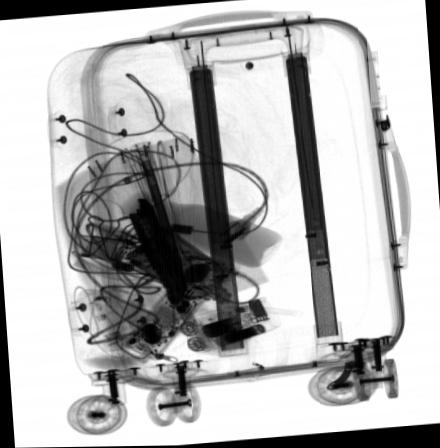Knife: (129, 198, 212, 347)
